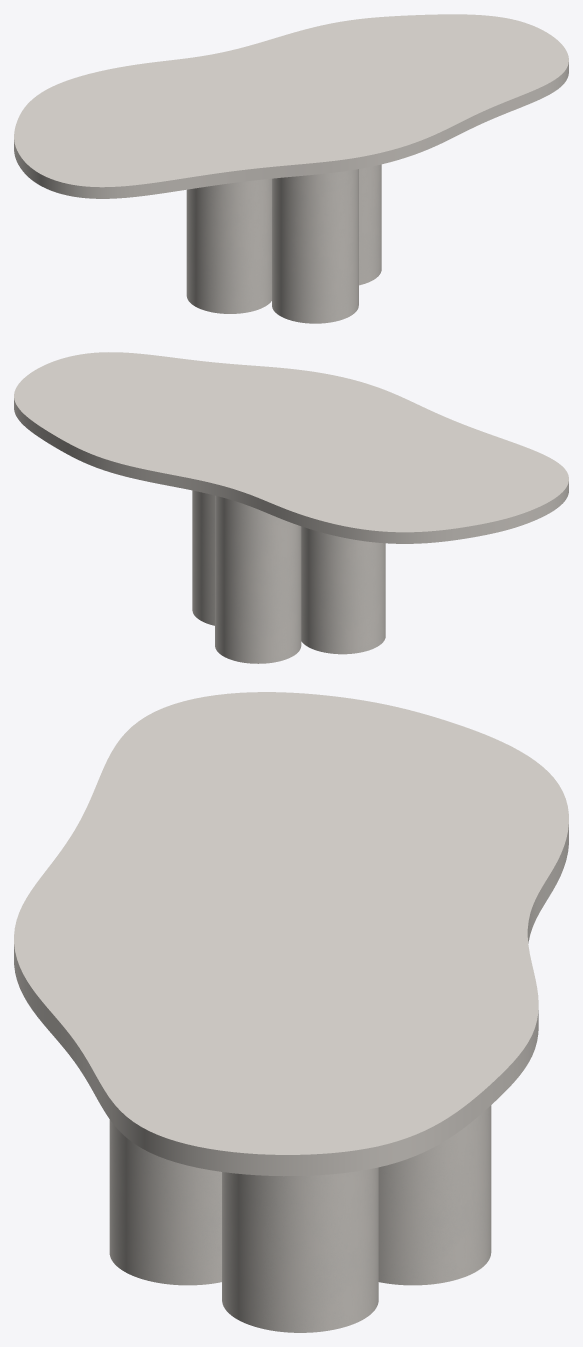
The model's file is pearlwhite_toplast_standard_secondtable.glb.
3 renders of one model, top to bottom at view 1: azimuth 30°, elevation 25°; view 2: azimuth 150°, elevation 25°; view 3: azimuth 270°, elevation 25°, orthographic. The views are drawn at different scales.
Parts seen in each view (by area): view 1: standard_toplast, secondtable; view 2: standard_toplast, secondtable; view 3: standard_toplast, secondtable.
Boxes of the visible parts, x1,y1,x2,y2 form: standard_toplast: (14,14,568,198); secondtable: (186,164,381,323); standard_toplast: (14,352,568,543); secondtable: (192,490,385,663); standard_toplast: (14,692,568,1176); secondtable: (109,1105,491,1332).
Size of the model in its own units: 7.5 by 2.5 by 3.8.
Materials: 1 (1 with a texture image).
